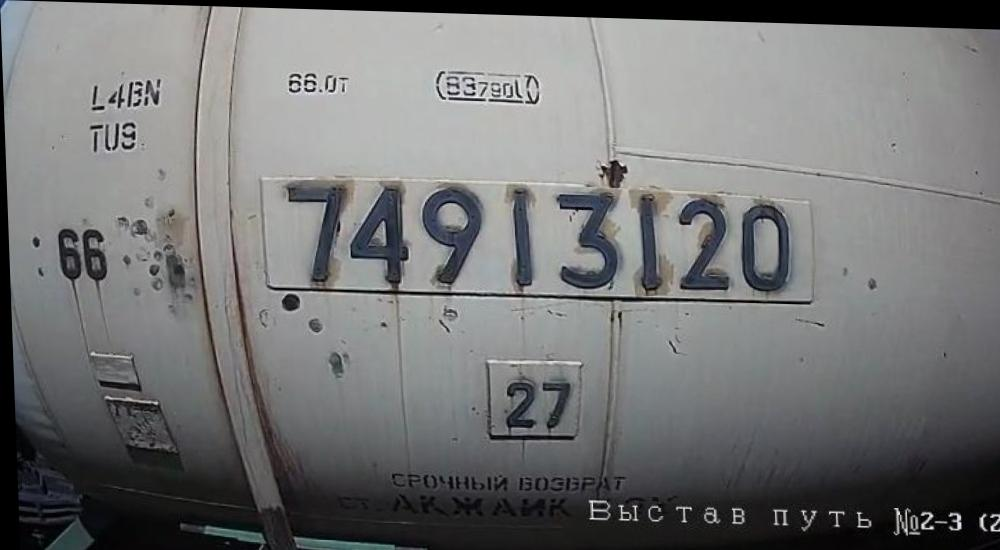Wagon-number: (275, 175, 799, 296)
